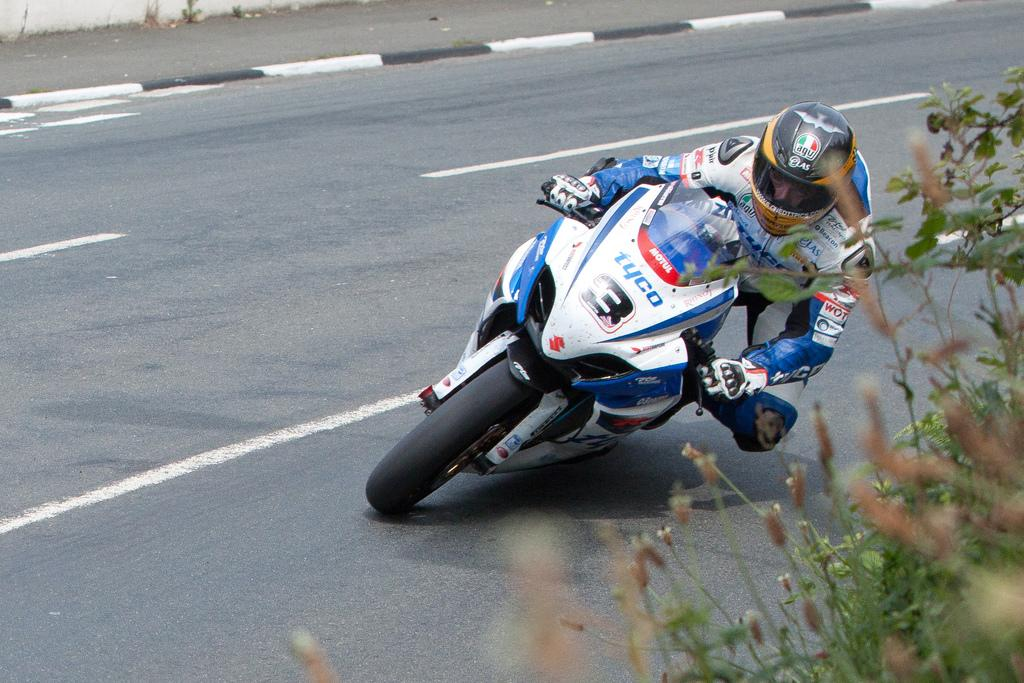helmet: (750, 100, 857, 237)
